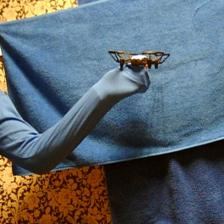drone: (108, 46, 172, 74)
